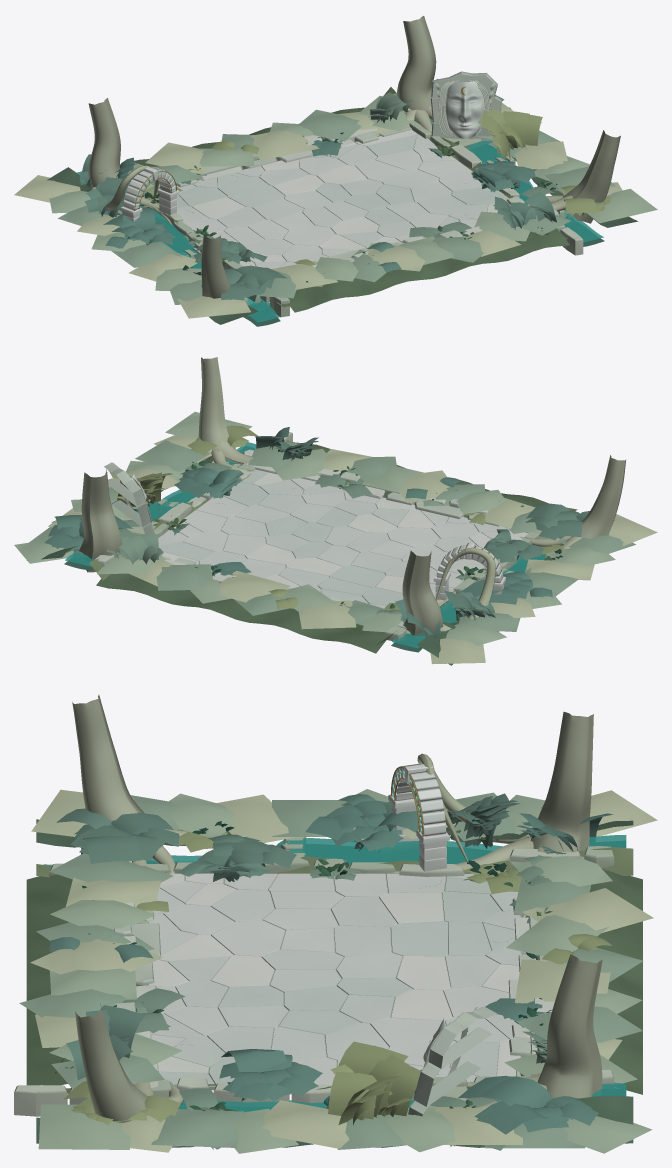
3 renders of one model, top to bottom at view 1: azimuth 30°, elevation 25°; view 2: azimuth 150°, elevation 25°; view 3: azimuth 270°, elevation 25°, orthographic. The views are drawn at different scales.
Parts seen in each view (by area): view 1: courtyard--stone-pale, fern-banks--groundcover, fern-banks--foliage, root-banks--bark, boundary-masonry--stone-dark, boundary-masonry--stone-pale, statue-east--stone-pale, water-channels--water, arch-west--stone-pale, fern-banks--foliage--solid-leaf; view 2: fern-banks--groundcover, courtyard--stone-pale, fern-banks--foliage, root-banks--bark, boundary-masonry--stone-dark, boundary-masonry--stone-pale, water-channels--water, statue-east--stone-pale, arch-west--stone-pale, fern-banks--foliage--solid-leaf; view 3: courtyard--stone-pale, fern-banks--groundcover, fern-banks--foliage, root-banks--bark, boundary-masonry--stone-dark, boundary-masonry--stone-pale, water-channels--water, statue-east--stone-pale, arch-west--stone-pale, fern-banks--foliage--solid-leaf.
Part boxes in pixels (bbox=[...]): courtyard--stone-pale: bbox=[142, 129, 510, 268]; fern-banks--groundcover: bbox=[14, 78, 657, 318]; fern-banks--foliage: bbox=[79, 92, 610, 301]; root-banks--bark: bbox=[88, 16, 620, 298]; boundary-masonry--stone-dark: bbox=[47, 87, 638, 324]; boundary-masonry--stone-pale: bbox=[131, 94, 583, 317]; statue-east--stone-pale: bbox=[430, 71, 501, 146]; water-channels--water: bbox=[77, 120, 603, 322]; arch-west--stone-pale: bbox=[120, 165, 179, 222]; fern-banks--foliage--solid-leaf: bbox=[76, 132, 557, 282]; fern-banks--groundcover: bbox=[14, 411, 657, 664]; courtyard--stone-pale: bbox=[158, 469, 528, 608]; fern-banks--foliage: bbox=[44, 425, 614, 638]; root-banks--bark: bbox=[79, 357, 626, 635]; boundary-masonry--stone-dark: bbox=[41, 440, 577, 665]; boundary-masonry--stone-pale: bbox=[95, 431, 545, 640]; water-channels--water: bbox=[65, 442, 547, 648]; statue-east--stone-pale: bbox=[104, 462, 157, 535]; arch-west--stone-pale: bbox=[433, 543, 505, 604]; fern-banks--foliage--solid-leaf: bbox=[119, 445, 562, 640]; courtyard--stone-pale: bbox=[147, 873, 522, 1090]; fern-banks--groundcover: bbox=[19, 789, 657, 1153]; fern-banks--foliage: bbox=[49, 793, 613, 1150]; root-banks--bark: bbox=[72, 695, 602, 1122]; boundary-masonry--stone-dark: bbox=[26, 819, 642, 1147]; boundary-masonry--stone-pale: bbox=[14, 846, 614, 1116]; water-channels--water: bbox=[43, 835, 626, 1112]; statue-east--stone-pale: bbox=[408, 1007, 496, 1116]; arch-west--stone-pale: bbox=[388, 763, 449, 871]; fern-banks--foliage--solid-leaf: bbox=[55, 821, 552, 1110].
Size of the model in its own units: 24.63 by 5.44 by 18.33.
